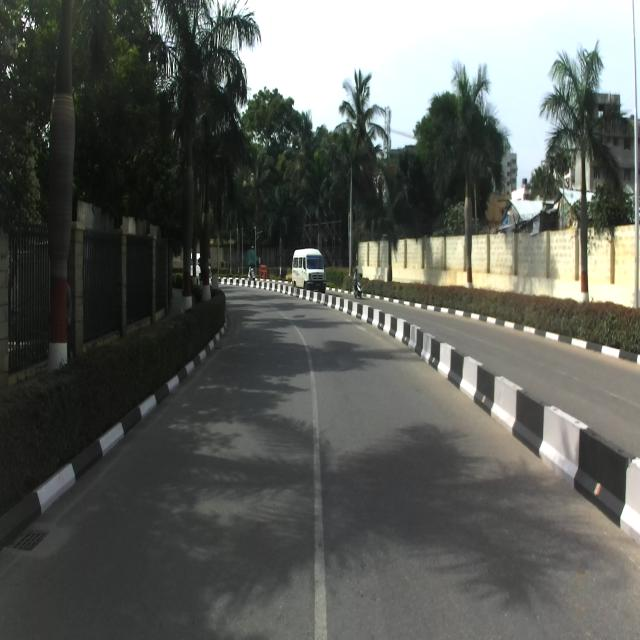tree ahead at: (42, 0, 82, 366), (173, 107, 201, 314)
